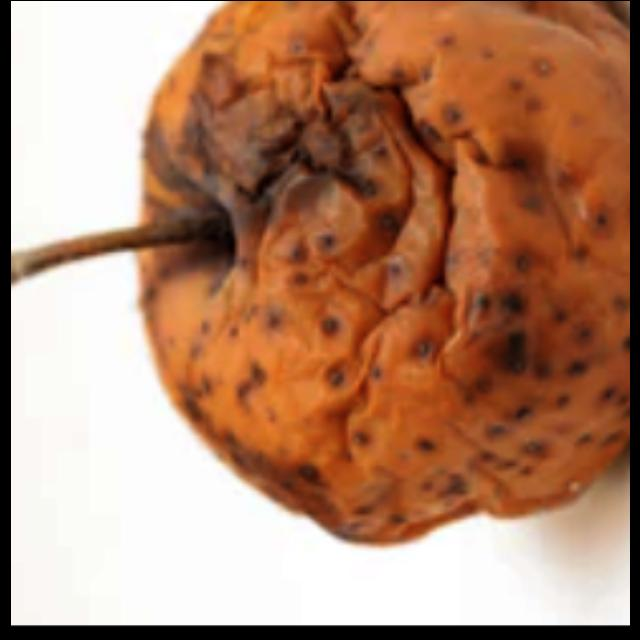Apel Tidak Segar: (121, 0, 630, 556)
